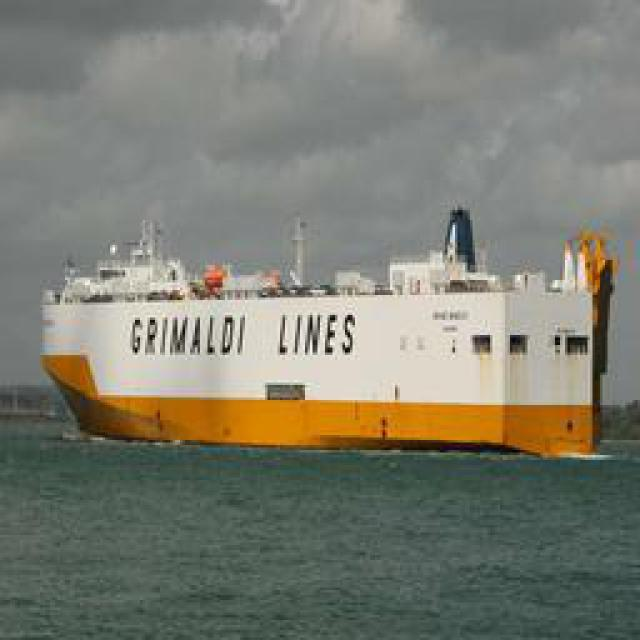Ship: (54, 190, 599, 455)
